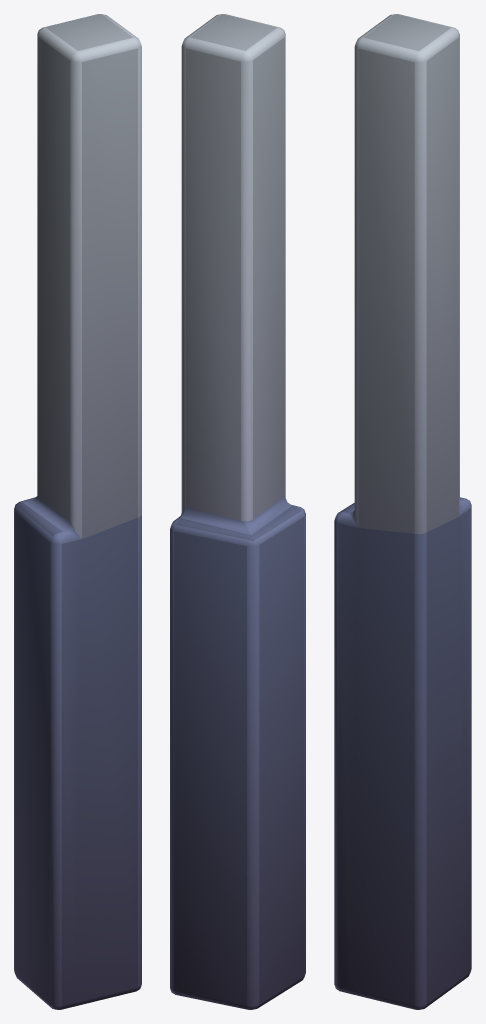
The model's file is wall-angle-2.fbx.
3 renders of one model, left to right at view 1: azimuth 30°, elevation 25°; view 2: azimuth 150°, elevation 25°; view 3: azimuth 330°, elevation 25°, orthographic.
Parts seen in each view (by area): view 1: wall-angle-2; view 2: wall-angle-2; view 3: wall-angle-2.
Boxes of the visible parts, x1,y1,x2,y2 form: wall-angle-2: (14,14,141,1009); wall-angle-2: (170,14,305,1009); wall-angle-2: (334,14,471,1009).
Size of the model in its own units: 81.95 by 824 by 81.95.
